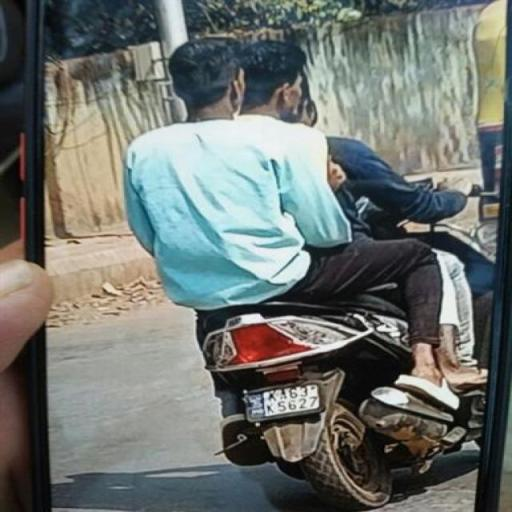tripple riding: (123, 28, 499, 301)
